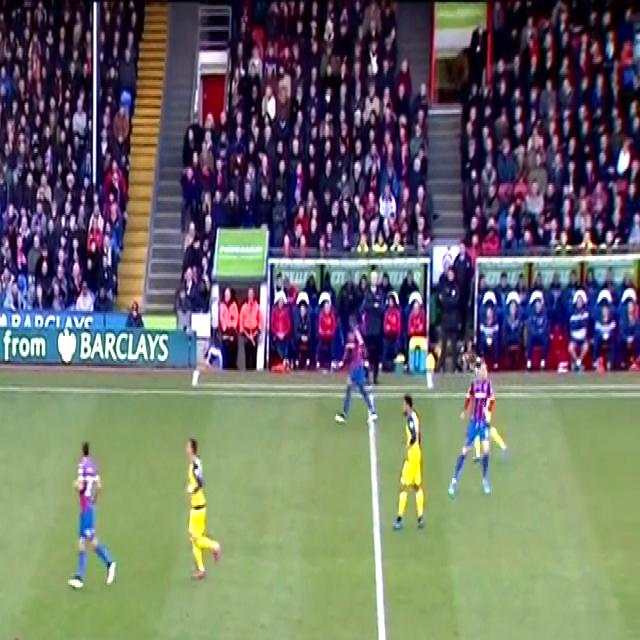soccer-player: (54, 439, 126, 604), (448, 360, 514, 508), (173, 427, 231, 584), (378, 392, 433, 540), (333, 311, 384, 430), (0, 624, 59, 640)
